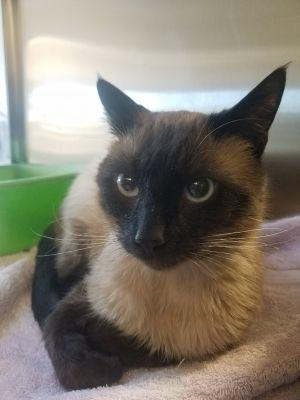siamese: (84, 61, 288, 281)
